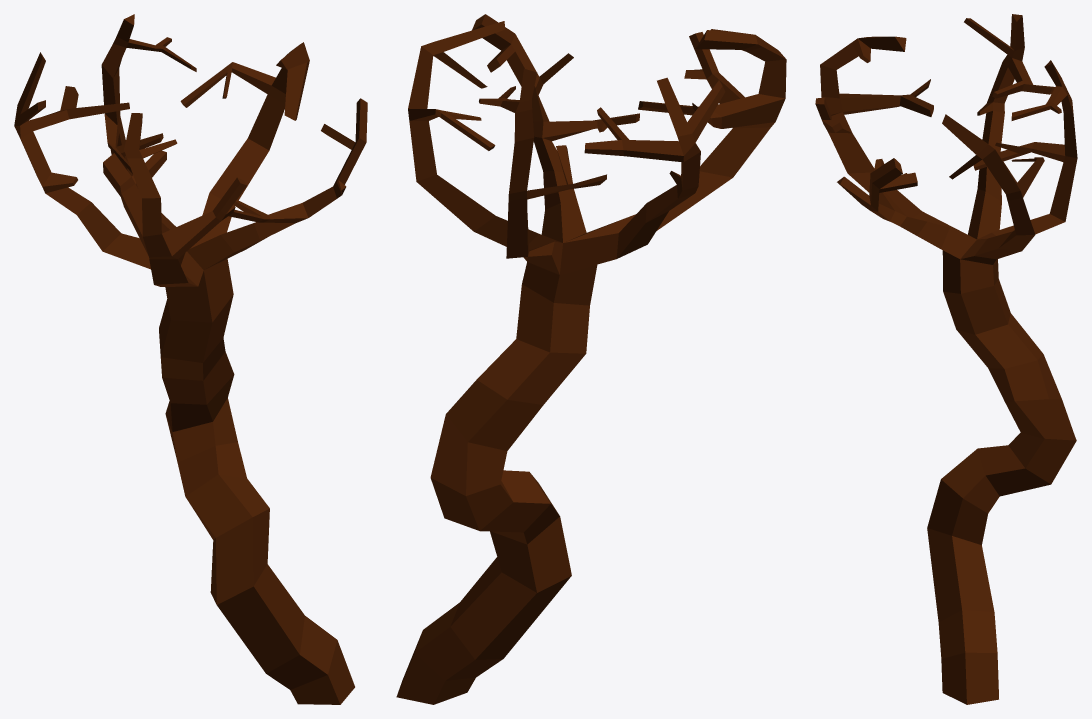
The model's file is Arbol1.fbx.
3 views of the same model, side by side, from view 1: azimuth 30°, elevation 25°; view 2: azimuth 150°, elevation 25°; view 3: azimuth 270°, elevation 25° (orthographic). The views are drawn at different scales.
Parts seen in each view (by area): view 1: Arbol.001; view 2: Arbol.001; view 3: Arbol.001.
Part boxes in pixels (x1,y1,x2,y2): Arbol.001: (14,14,367,704); Arbol.001: (396,14,786,704); Arbol.001: (815,14,1077,704).
Size of the model in its own units: 612 by 1256 by 520.
